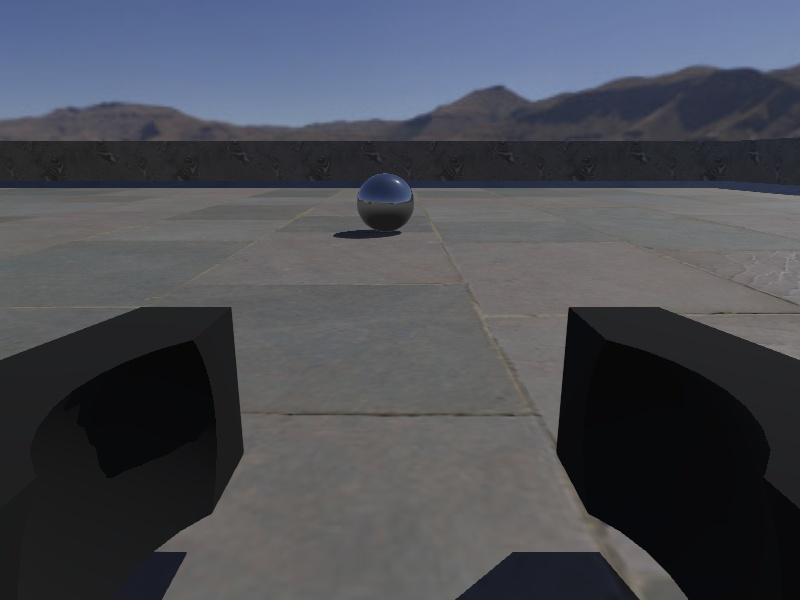steel ball: (356, 173, 416, 233)
